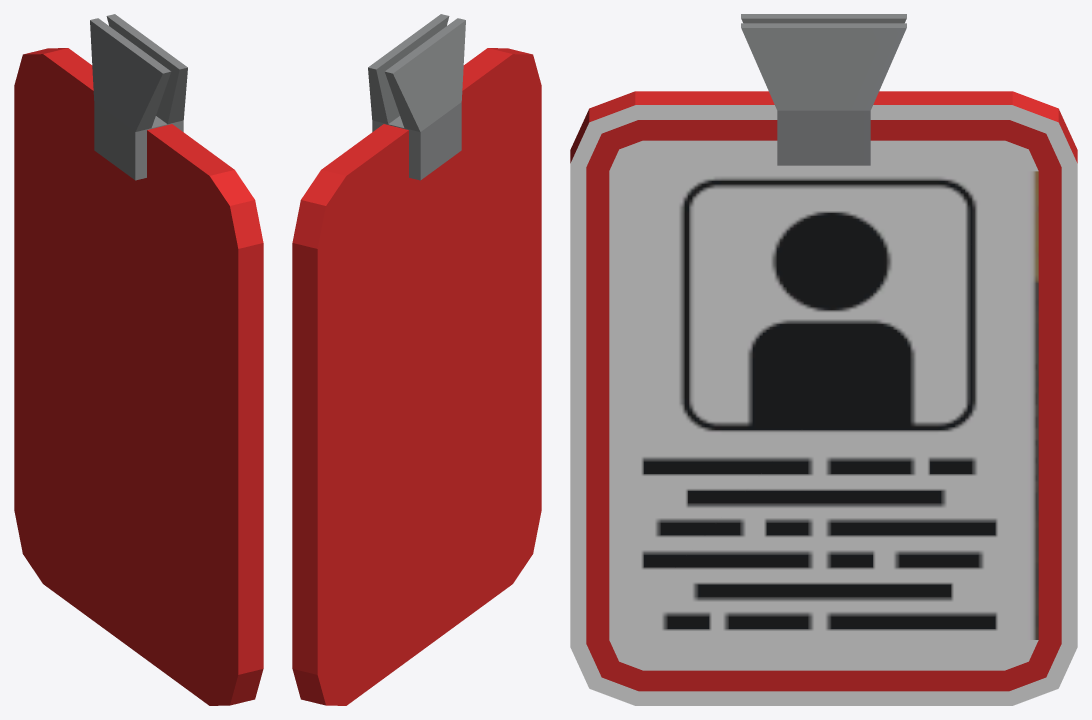
The model's file is KeycardRotated_v01.obj.
The picture shows the model from 3 angles, left to right: view 1: azimuth 30°, elevation 25°; view 2: azimuth 150°, elevation 25°; view 3: azimuth 270°, elevation 25°; orthographic projection. The views are drawn at different scales.
Visible parts, largest first — view 1: KeycardRotated_v01_mi_CustomPropMain; view 2: KeycardRotated_v01_mi_CustomPropMain; view 3: KeycardRotated_v01_mi_CustomPropMain.
Part boxes in pixels (x1,y1,x2,y2): KeycardRotated_v01_mi_CustomPropMain: [14, 14, 263, 705]; KeycardRotated_v01_mi_CustomPropMain: [292, 14, 541, 705]; KeycardRotated_v01_mi_CustomPropMain: [570, 14, 1077, 705].
Bounding box in the file's own units: 0.0213 × 0.2517 × 0.1708.
Materials: 1 (1 with a texture image).
